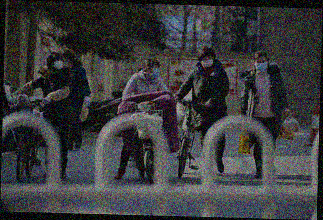with_mask: (200, 53, 214, 69), (255, 58, 269, 72), (149, 64, 161, 77), (53, 57, 65, 69)
